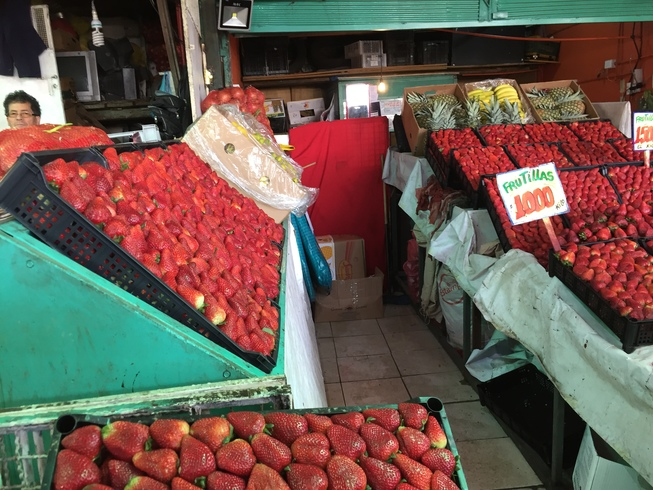precio: (494, 163, 570, 230), (629, 111, 653, 157)
